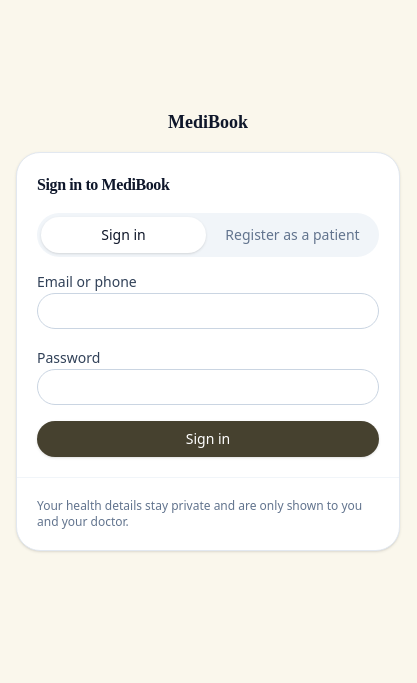
Login screen › [AC-002] a 409 on register keeps the entered data and shows an inline message
The width and height of the screenshot is (417, 683).
Click the tab "Register as a patient" at (292, 234), box [210, 216, 375, 252]
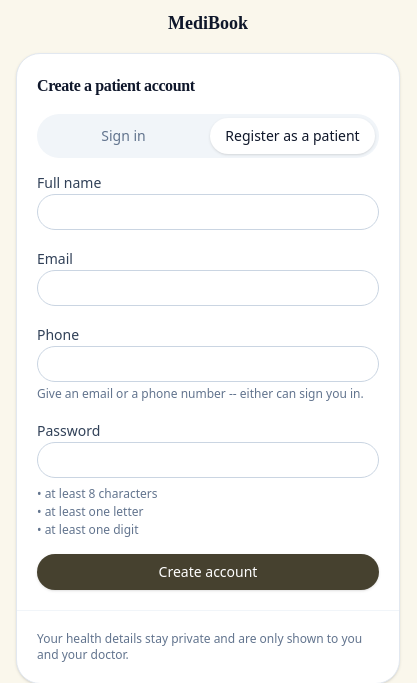
Type "Pat Patient" into the field labelled "Full name" at (208, 212), box [37, 194, 379, 230]
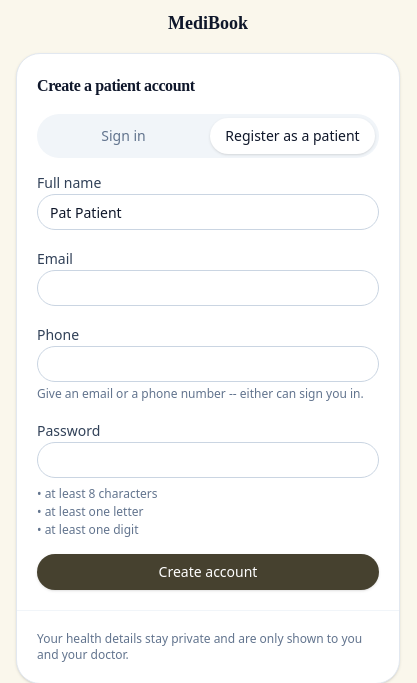
Type "pat@x.com" into the field labelled "Email" at (208, 288), box [37, 270, 379, 306]
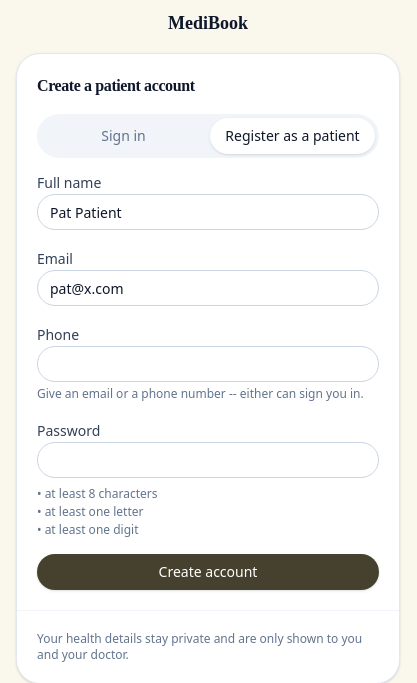
Type "Secret123" into the password field labelled "Password" at (208, 460), box [37, 442, 379, 478]
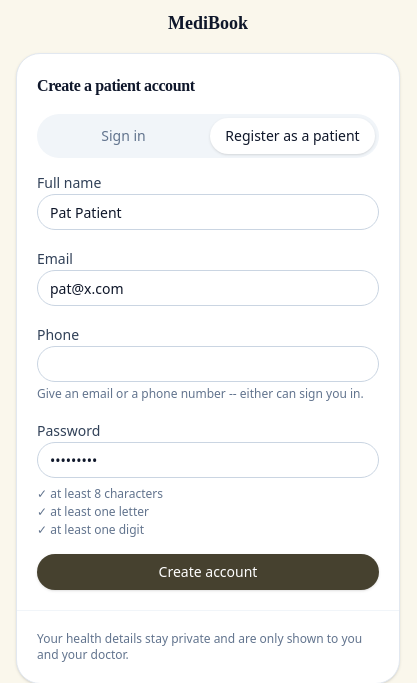
Click the button "Create account" at (208, 572), box [37, 554, 379, 590]
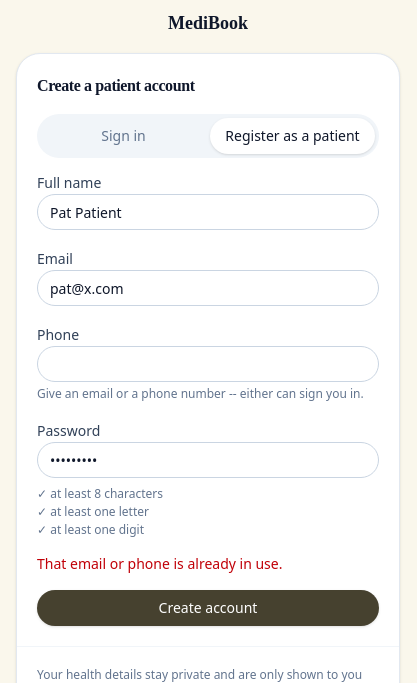
Expected: the message shows "already in use", [37, 554, 282, 573]
